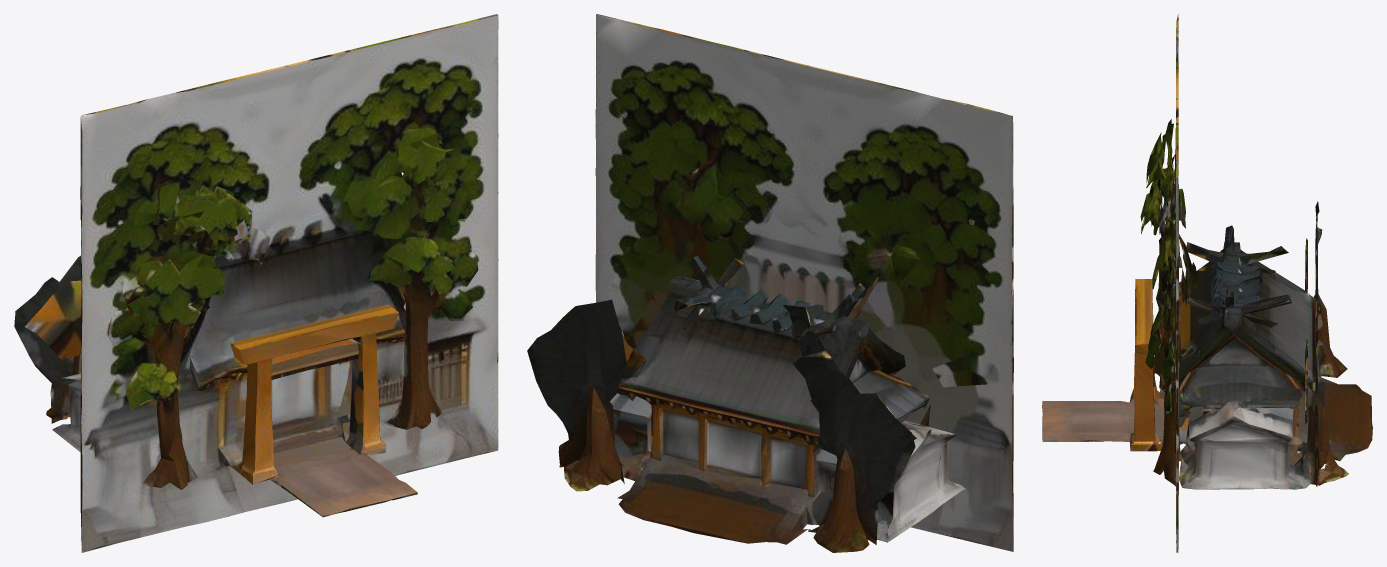
The model's file is atsuta-jingu.glb.
3 renders of one model, left to right at view 1: azimuth 30°, elevation 25°; view 2: azimuth 150°, elevation 25°; view 3: azimuth 270°, elevation 25°, orthographic. The views are drawn at different scales.
Parts seen in each view (by area): view 1: logan-textured.obj; view 2: logan-textured.obj; view 3: logan-textured.obj.
Part boxes in pixels (left/top/right/bottom): logan-textured.obj: left=14, top=14, right=498, bottom=552; logan-textured.obj: left=527, top=14, right=1013, bottom=552; logan-textured.obj: left=1042, top=14, right=1372, bottom=552.
Bounding box in the file's own units: 0.9996 × 1 × 0.8147.
Materials: 1 (1 with a texture image).
